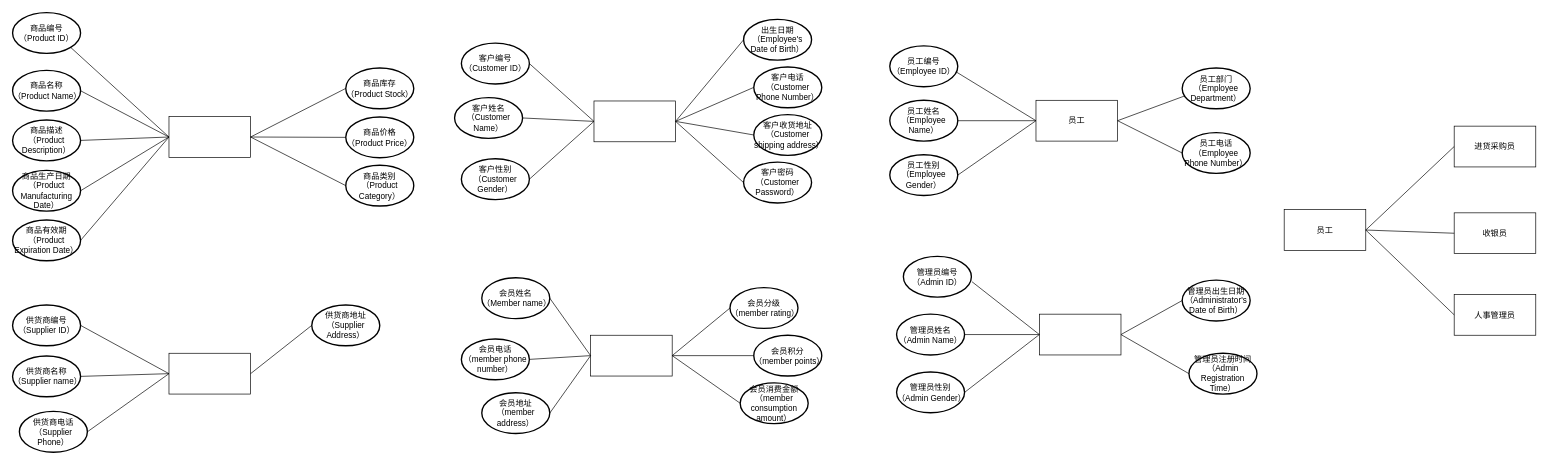
This 1548x464 diagram has some shape labels left out. The shapes that lost their labels are listed below. From the top down, each one's box as (x1, y1, x2, y2) in pixels, then its label:
(168, 116, 251, 157): 商品
(593, 100, 676, 142): 客户
(1039, 313, 1121, 355): 管理员
(168, 353, 251, 394): 供货商
(590, 335, 672, 376): 会员
